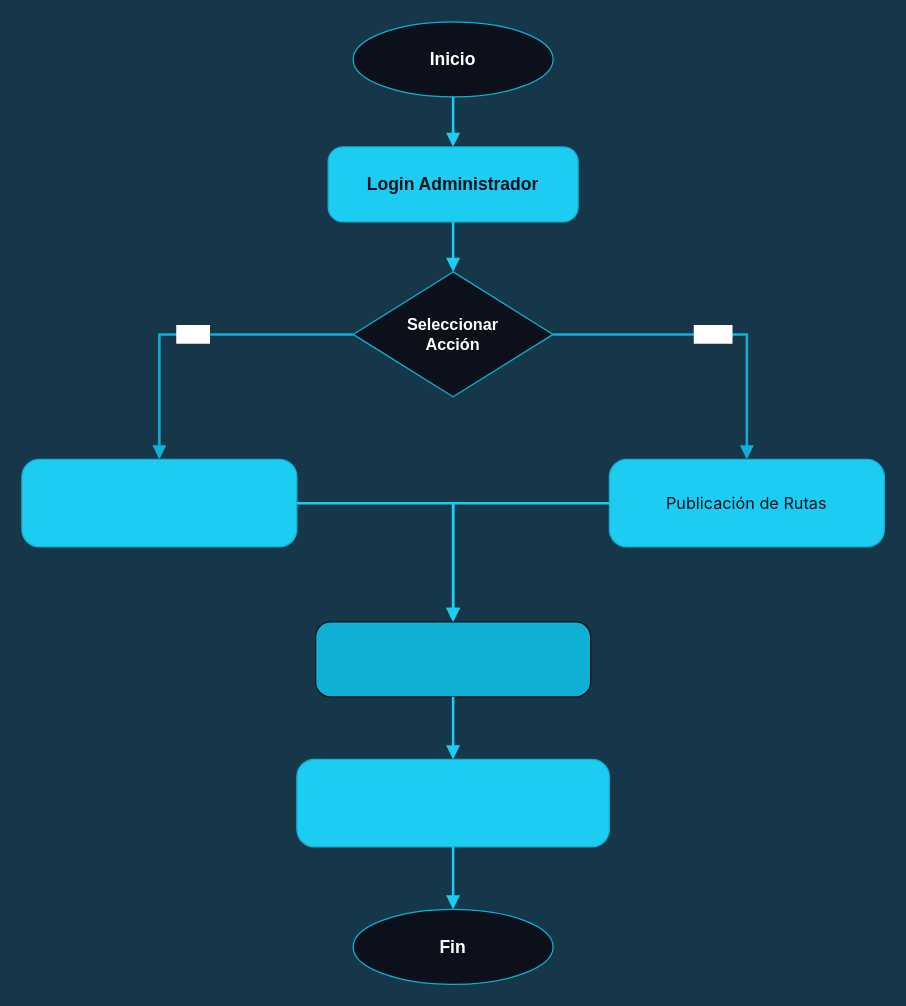
Image size: 906x1006. Some labels were removed from this diagram. The centre of each missing label's shape, as x and y in pixels:
"Actualización en Vivo hacia la App Syncro" belongs at pixel 452 802.
"Gestión de Flota / Chóferes" belongs at pixel 159 502.
"Sincronización en Servidor" belongs at pixel 452 659.
